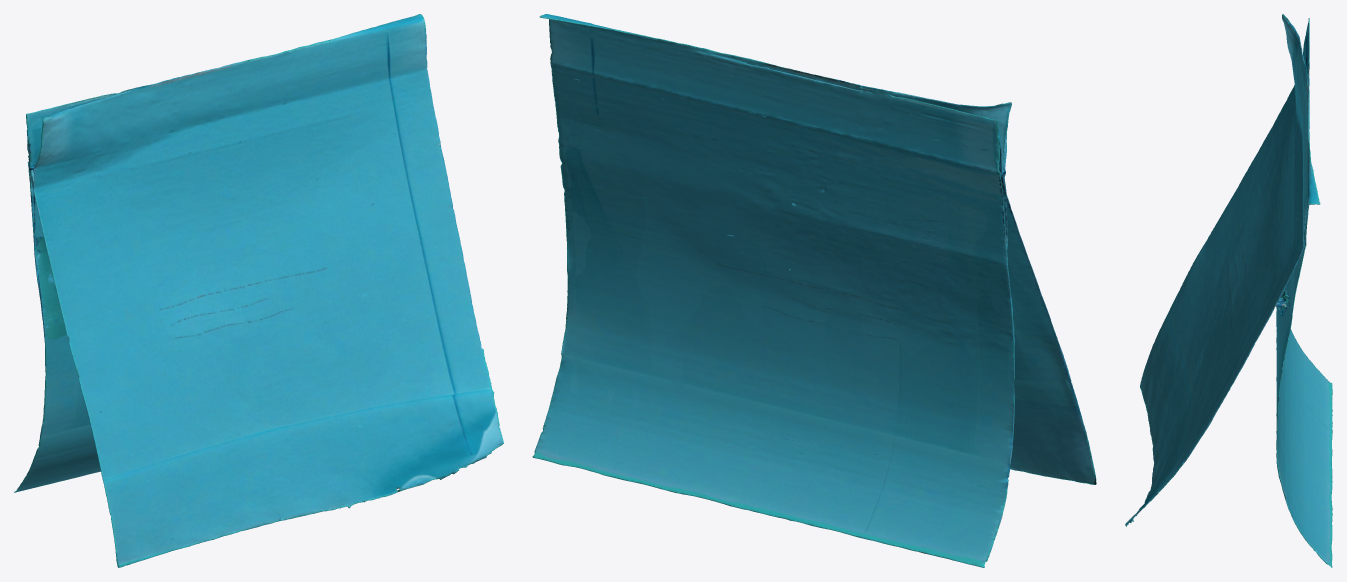
Rendered from Sticky_Note__0922192455_texture.fbx.
3 renders of one model, left to right at view 1: azimuth 30°, elevation 25°; view 2: azimuth 150°, elevation 25°; view 3: azimuth 270°, elevation 25°, orthographic. The views are drawn at different scales.
Parts seen in each view (by area): view 1: Mesh_0.003; view 2: Mesh_0.003; view 3: Mesh_0.003.
Part boxes in pixels (x1=…): Mesh_0.003: x1=14, y1=14, x2=503, y2=567; Mesh_0.003: x1=532, y1=14, x2=1096, y2=567; Mesh_0.003: x1=1125, y1=14, x2=1332, y2=567.
Size of the model in its own units: 190 by 179 by 90.29.
Materials: 1 (1 with a texture image).
